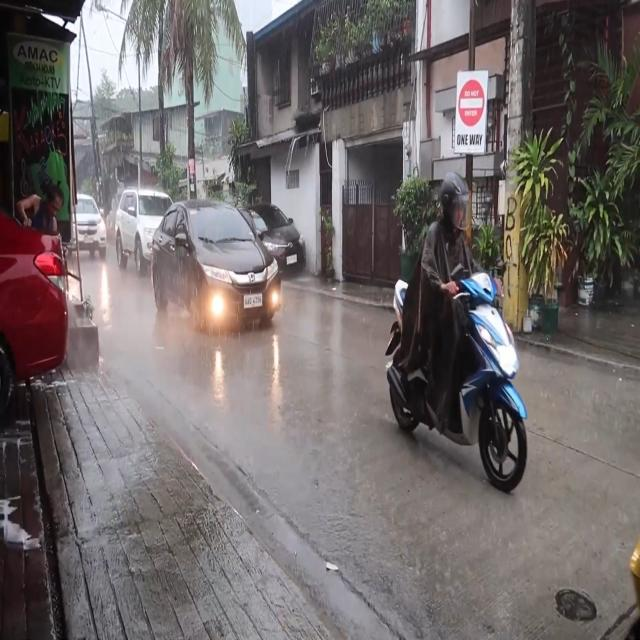half: (437, 171, 472, 232)
